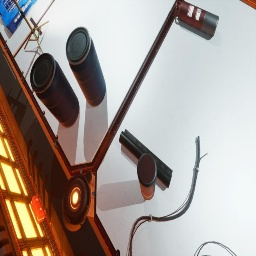FirstAidBox ,: (30, 195, 46, 224)
NitrogenTank ,: (174, 0, 219, 37), (137, 152, 157, 200)
